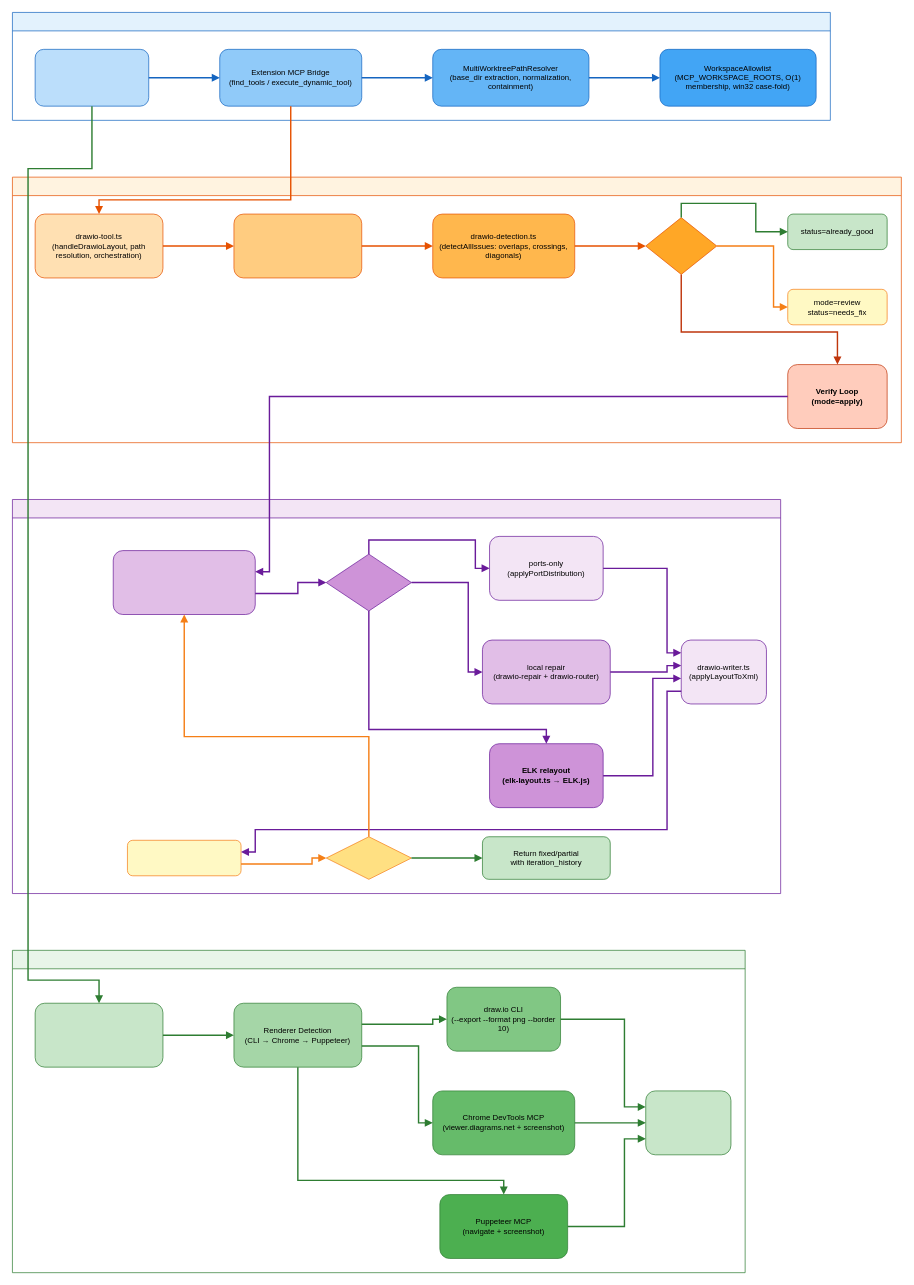
This 914x1285 diagram has some shape labels left out. Here are the shapes that lost their labels. From the top down, the centre of each, then its label:
At (x=91, y=77): "AI Agent (BA/SA/QA/DevOps)".
At (x=297, y=245): "drawio-parser.ts (parseDrawio → DiagramGraph)".
At (x=681, y=245): "{Issues?}".
At (x=184, y=582): "drawio-apply.ts (Fix Orchestrator + Verify Loop)".
At (x=368, y=582): "{Fix Strategy}".
At (x=184, y=858): "Re-detect Issues (detectAllIssues)".
At (x=368, y=857): "{Iteration < 3?}".
At (x=98, y=1035): "drawio-export-png.ts (handleDrawioExportPng)".
At (x=688, y=1122): "PNG base64 (output_base64)".
